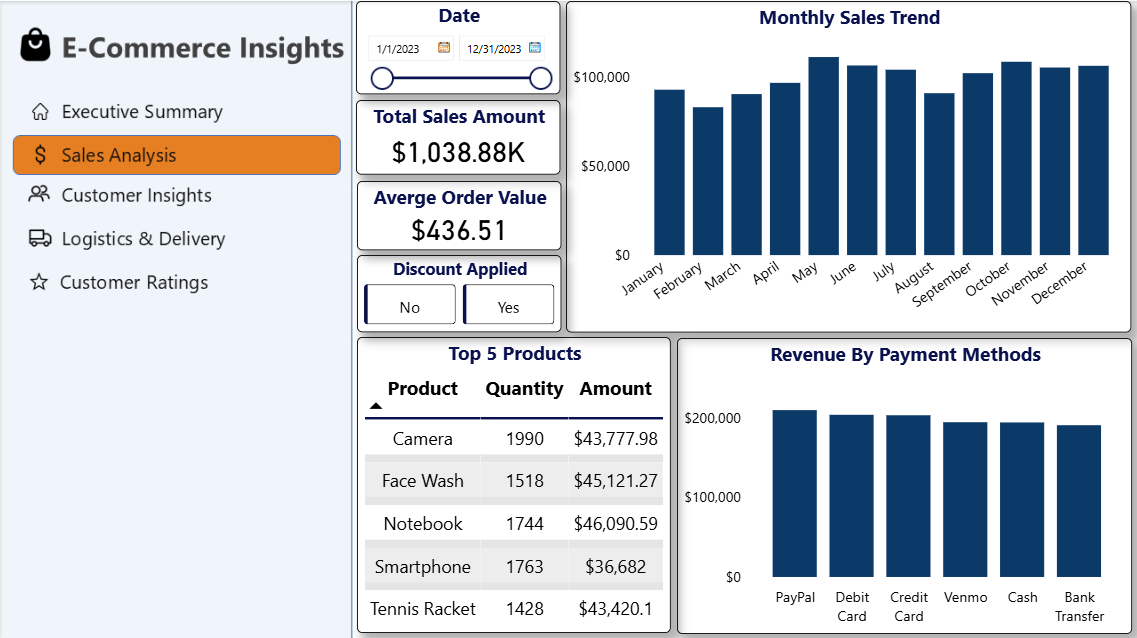

This screenshot's page, from the dashboard's own definition file:
{"tool":"powerbi","page":{"name":"Sales Analysis","canvas":[1280,720],"ordinal":1},"visuals":[{"type":"clusteredColumnChart","title":"Monthly Sales Trend","fields":{"Category":["ecommerce sales.Date.Variation.Date Hierarchy.Month"],"Y":["Sum(ecommerce sales.purchase_amount)"]},"box":[634.3,0,636.4,372.9],"z":0},{"type":"clusteredColumnChart","title":"Revenue By Payment Methods","fields":{"Category":["ecommerce sales.payment_method"],"Y":["Sum(ecommerce sales.purchase_amount)"]},"box":[759.3,378.6,512.1,332.9],"z":1000},{"type":"tableEx","title":"Top 5 Products","fields":{"Values":["ecommerce sales.item_purchased","Sum(ecommerce sales.quantity)","Sum(ecommerce sales.purchase_amount)"]},"box":[399.2,378.3,353.3,333.3],"z":2000},{"type":"card","title":"Total Sales Amount","fields":{"Values":["ecommerce sales.total_revenue"]},"box":[398.8,111.2,230,83.8],"z":3000},{"type":"actionButton","box":[12.5,105,363.8,40],"z":4000},{"type":"actionButton","box":[12.5,195,363.8,46.2],"z":5000},{"type":"actionButton","box":[12.5,241.2,363.8,50],"z":6000},{"type":"actionButton","box":[12.5,291.2,363.8,46.2],"z":7000},{"type":"advancedSlicerVisual","title":"Discount Applied","fields":{"Values":["ecommerce sales.discount_applied"]},"box":[399.2,285.8,230,86.7],"z":8000},{"type":"slicer","title":"Date ","fields":{"Values":["ecommerce sales.Date"]},"box":[398.8,0,230,105],"z":9000},{"type":"card","title":"Averge Order Value","fields":{"Values":["ecommerce sales.avg_order_value"]},"box":[398.9,202.2,230,77.8],"z":10000}]}

Visuals, with their boxes in screenshot pixels (x1, y1, x2, y2), scaled from the page's 1280x720 canvas onto the 1137x638 screenshot:
"Monthly Sales Trend" clusteredColumnChart: [left=563, top=0, right=1129, bottom=330]
"Revenue By Payment Methods" clusteredColumnChart: [left=674, top=335, right=1129, bottom=630]
"Top 5 Products" tableEx: [left=355, top=335, right=668, bottom=631]
"Total Sales Amount" card: [left=354, top=99, right=559, bottom=173]
actionButton: [left=11, top=93, right=334, bottom=128]
actionButton: [left=11, top=173, right=334, bottom=214]
actionButton: [left=11, top=214, right=334, bottom=258]
actionButton: [left=11, top=258, right=334, bottom=299]
"Discount Applied" advancedSlicerVisual: [left=355, top=253, right=559, bottom=330]
"Date " slicer: [left=354, top=0, right=559, bottom=93]
"Averge Order Value" card: [left=354, top=179, right=559, bottom=248]
